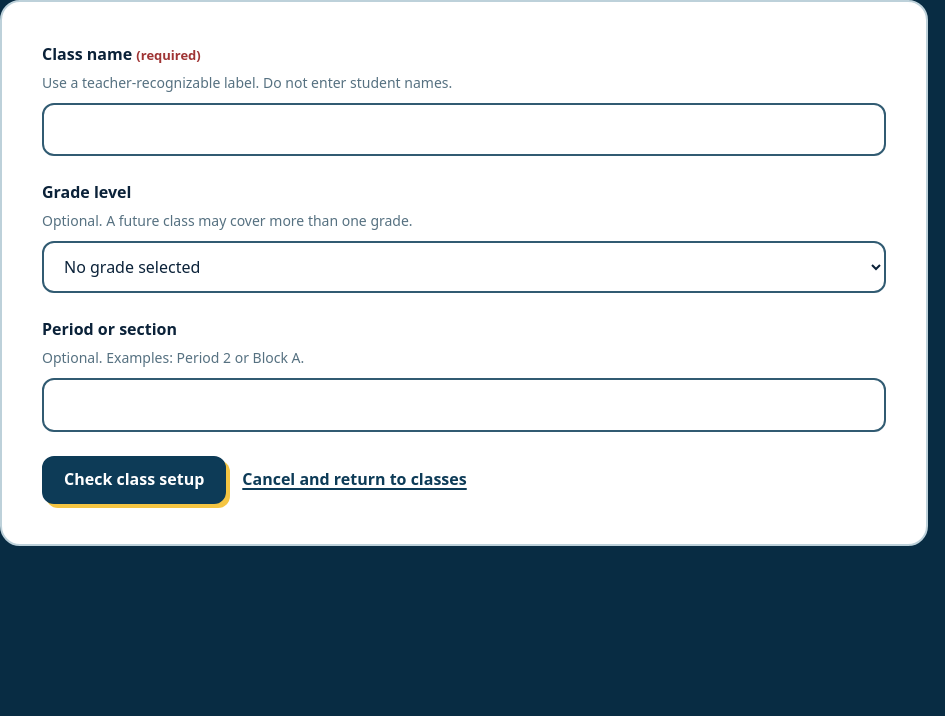
it: teacher workflow prototype forms › moves focus to the class error summary and identifies the invalid field
Click the button "Check class setup" at (134, 480), box [42,456,226,504]
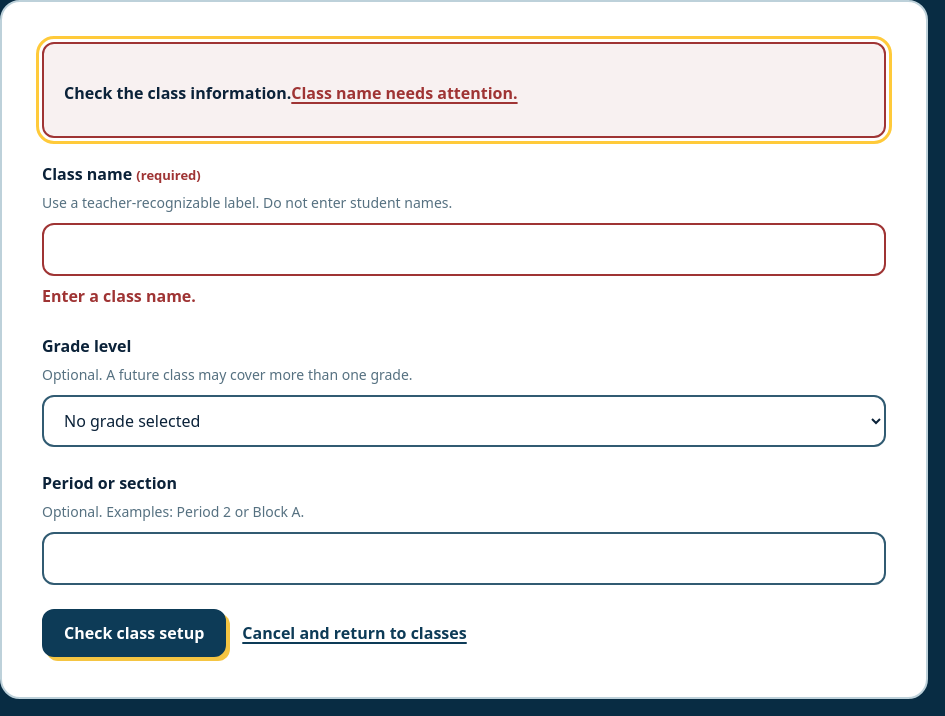
Expected: the text "Enter a class name." is shown, [42,286,196,308]
